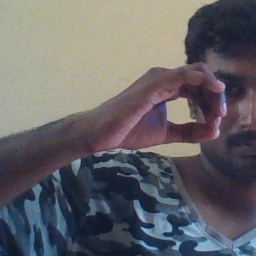O: (97, 47, 230, 156)
